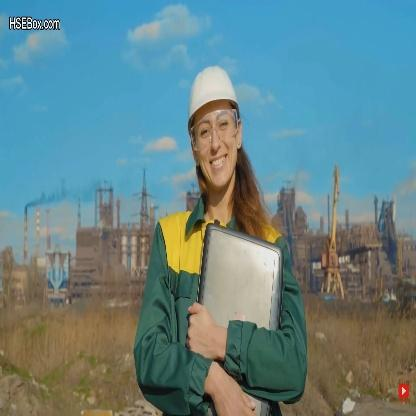helmet: (175, 65, 243, 186)
